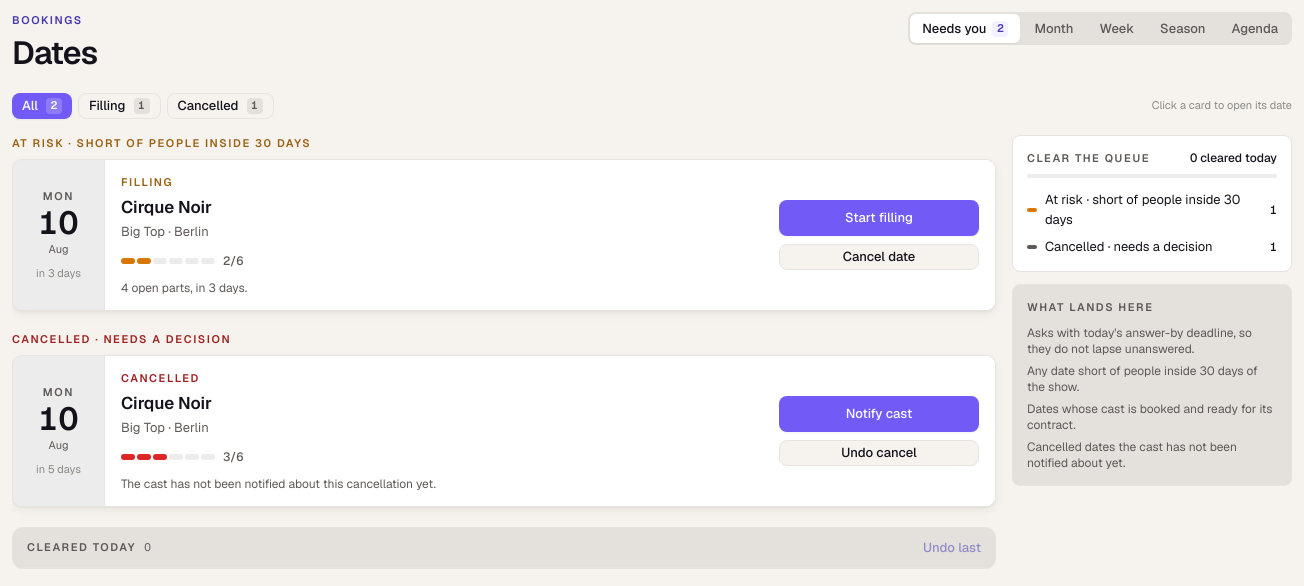
Test: CalendarSurface — Needs-you scope chips + toolbar key hint › selecting a scope chip filters the queue body to that category, without touching the QueueRail overview
Check: the element with test id "needs-you-group-at-risk" is shown, box [12,134,996,310]
Check: the element with test id "needs-you-group-cancelled" is shown, box [12,330,996,506]
Click the button with test id "scope-chip-cancelled": (220, 106) [166,92,274,118]
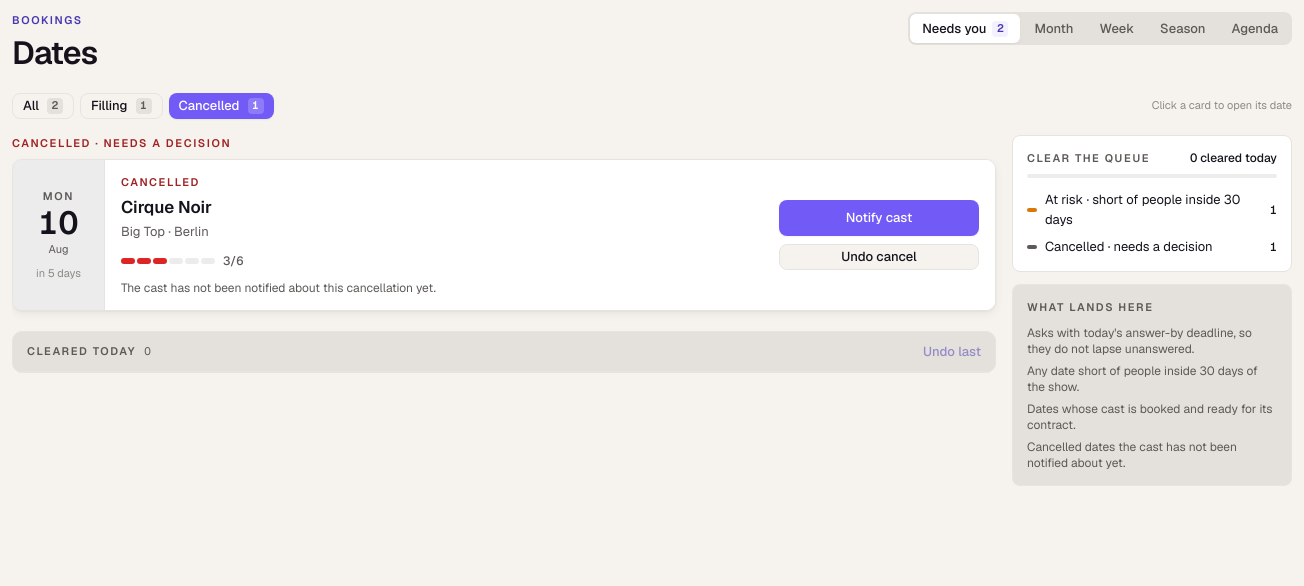
Check: the element with test id "needs-you-group-cancelled" is shown, box [12,134,996,310]
Check: the element with test id "needs-you-group-at-risk" is gone
Click the button with test id "scope-chip-all": (43, 106) [12,92,74,118]
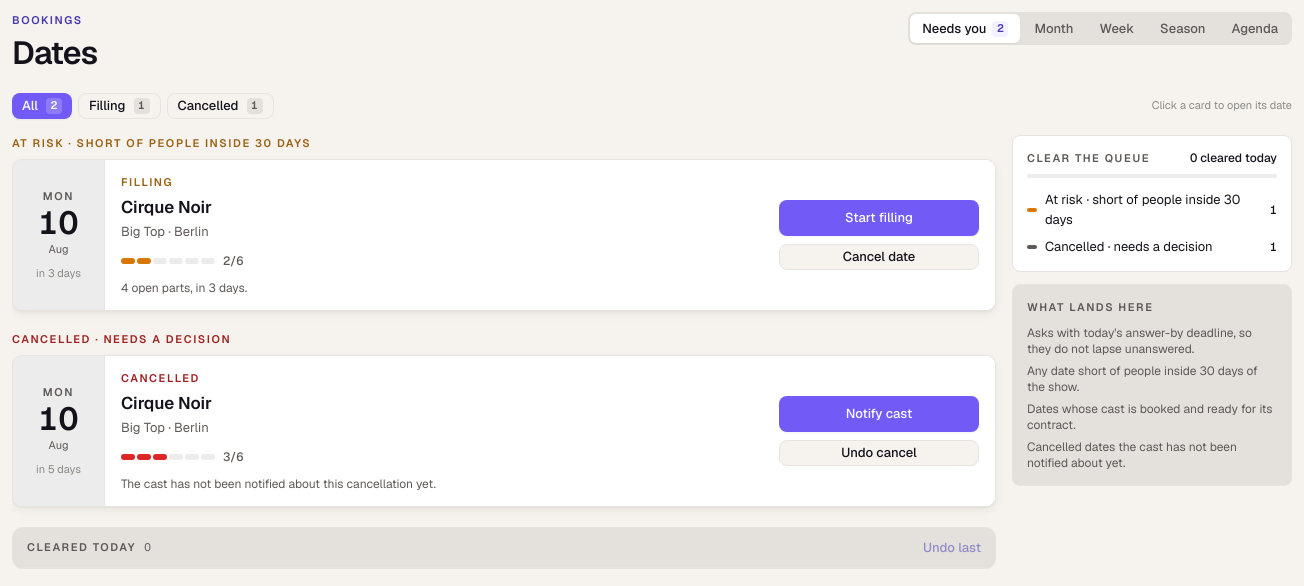
Check: the element with test id "needs-you-group-cancelled" is shown, box [12,330,996,506]
Check: the element with test id "needs-you-group-at-risk" is shown, box [12,134,996,310]
